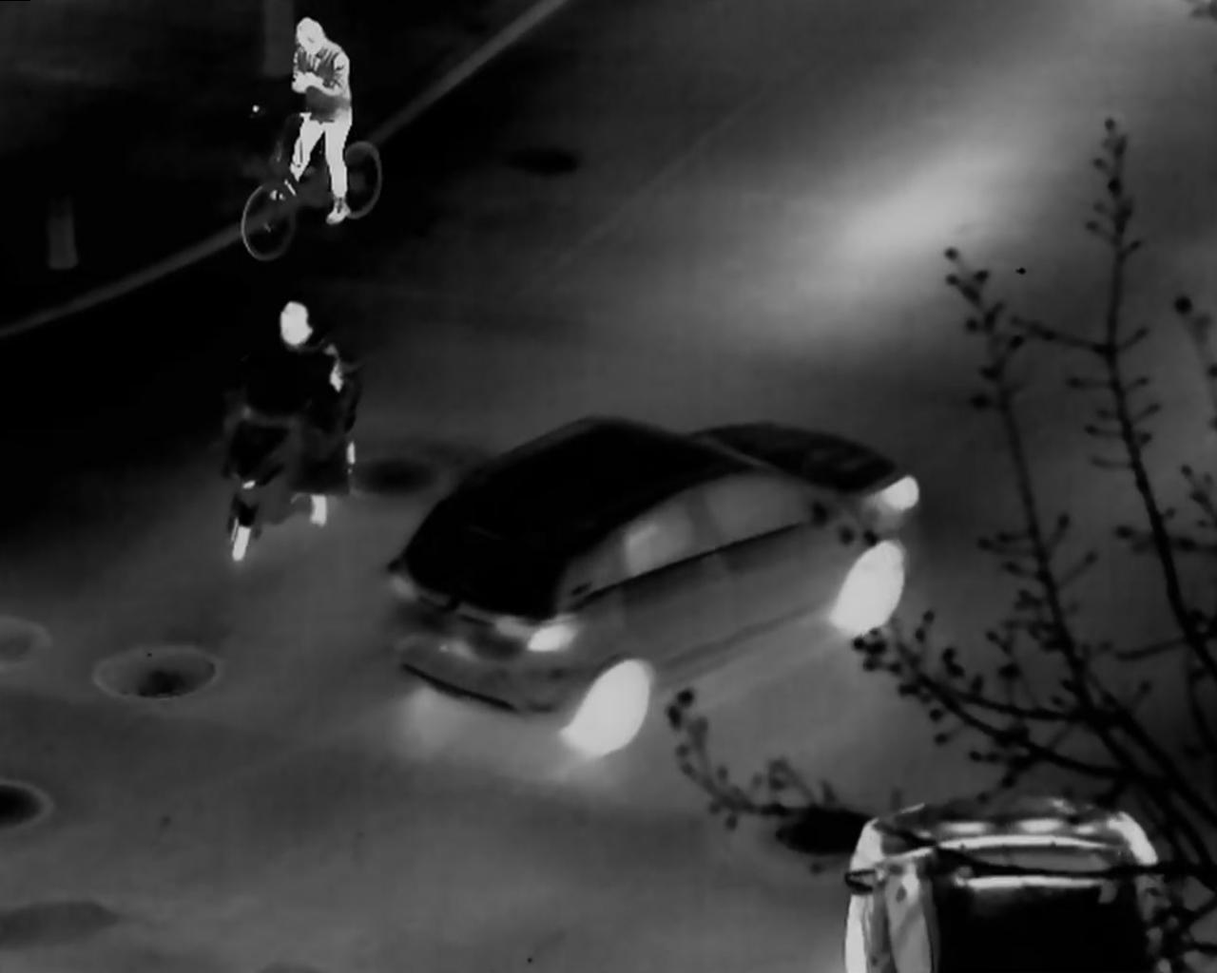person: (264, 301, 357, 505), (277, 11, 357, 240)
